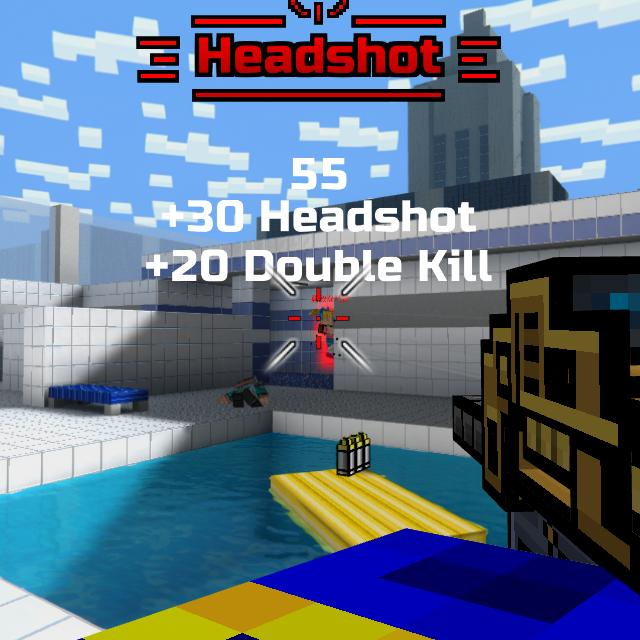Enemy: (317, 306, 334, 358)
